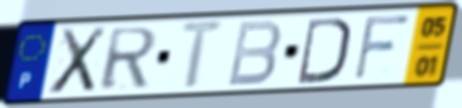B: (224, 18, 284, 89)
D: (296, 15, 353, 86)
F: (351, 12, 414, 83)
R: (97, 25, 160, 93)
T: (177, 18, 229, 93)
X: (45, 25, 109, 98)
